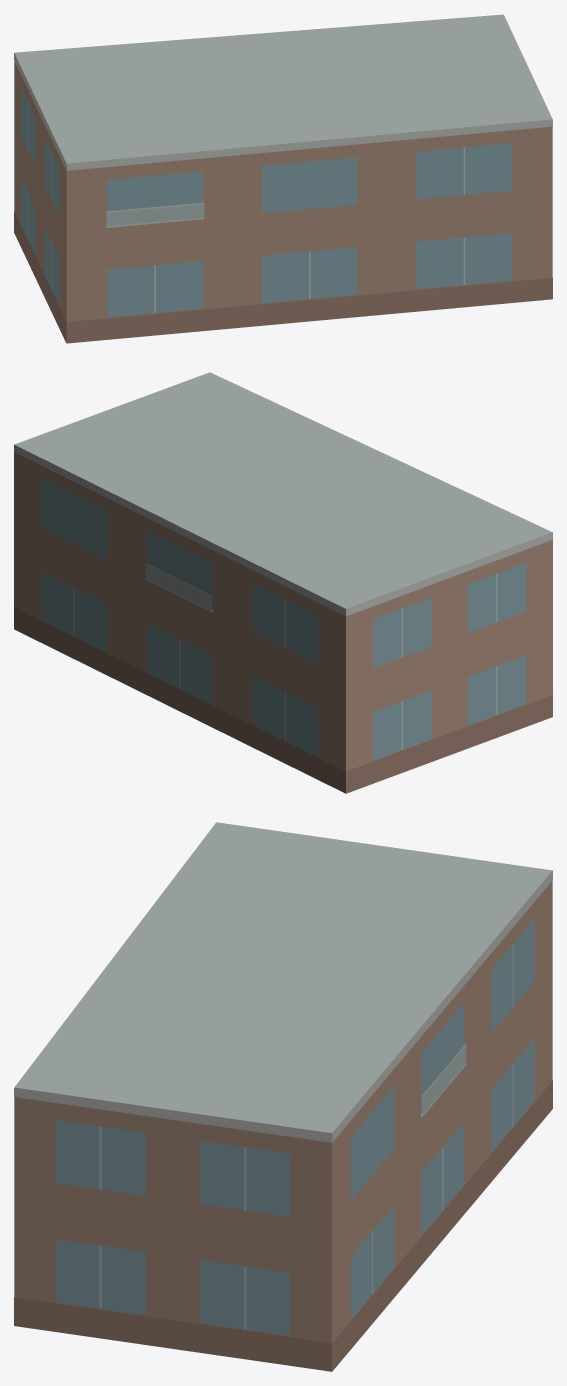
The model's file is survey-upis-32531856.glb.
3 views of the same model, one above another, from view 1: azimuth 30°, elevation 25°; view 2: azimuth 150°, elevation 25°; view 3: azimuth 270°, elevation 25° (orthographic). The views are drawn at different scales.
Visible parts, largest first — view 1: survey-upis-32531856.tmp; view 2: survey-upis-32531856.tmp; view 3: survey-upis-32531856.tmp.
Part boxes in pixels (x1,y1,x2,y2): survey-upis-32531856.tmp: (14, 14, 552, 343); survey-upis-32531856.tmp: (14, 372, 552, 793); survey-upis-32531856.tmp: (14, 822, 552, 1371).
Size of the model in its own units: 17.08 by 6.1 by 12.5.
